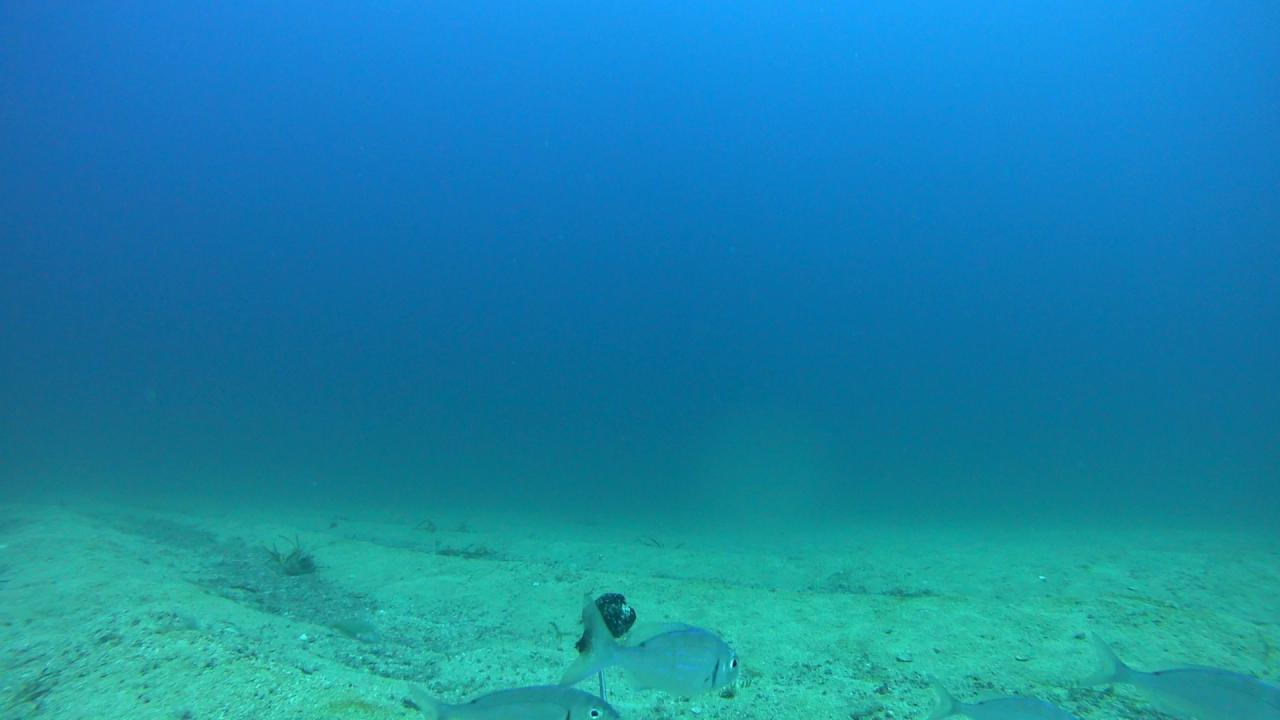pagellus: (558, 594, 741, 691)
